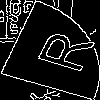R: (25, 25, 96, 75)
